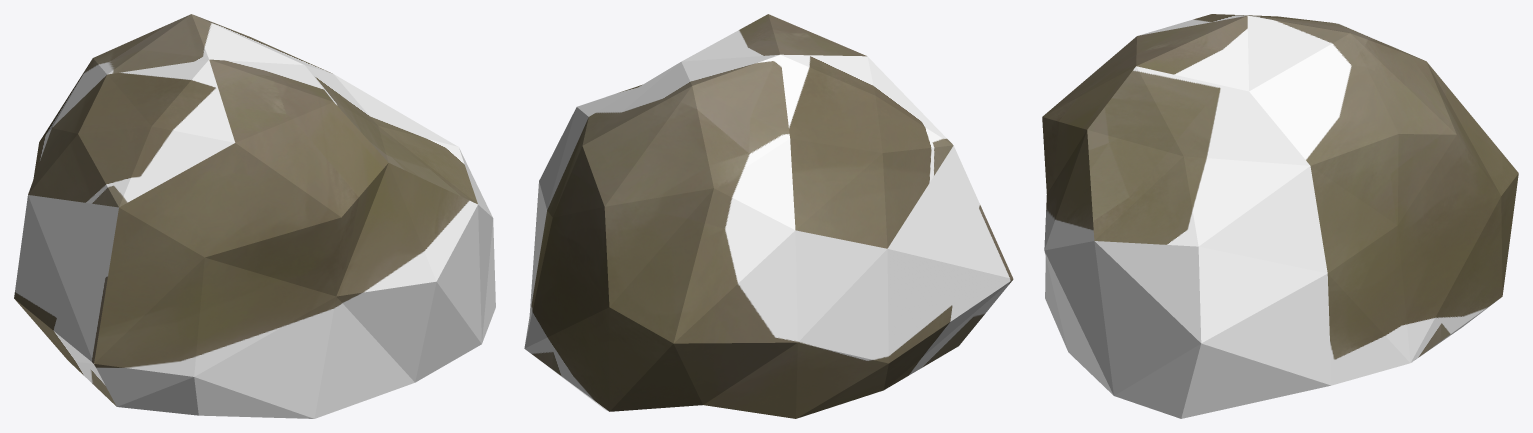
File: Rock_1.obj
The picture shows the model from 3 angles, left to right: view 1: azimuth 30°, elevation 25°; view 2: azimuth 150°, elevation 25°; view 3: azimuth 270°, elevation 25°; orthographic projection. The views are drawn at different scales.
Visible parts, largest first — view 1: Rock_2; view 2: Rock_2; view 3: Rock_2.
Part boxes in pixels (x1,y1,x2,y2): Rock_2: [14, 14, 495, 418]; Rock_2: [524, 14, 1013, 418]; Rock_2: [1042, 14, 1518, 418].
Size of the model in its own units: 10.53 by 6.65 by 10.18.
